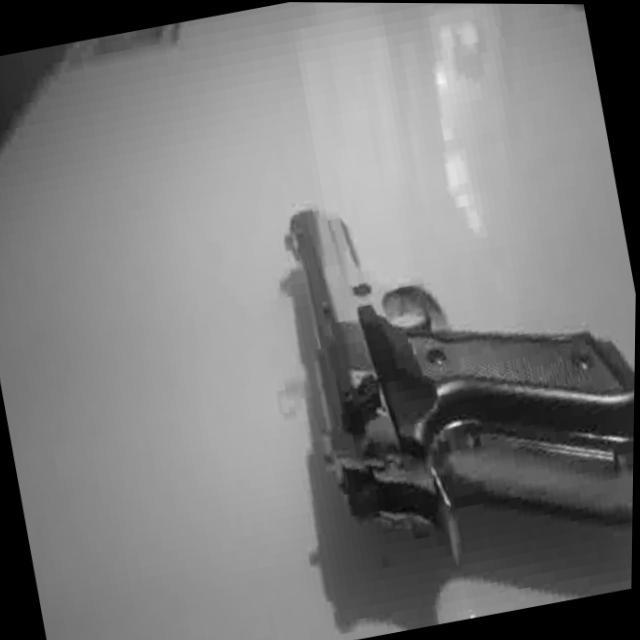weapon: (266, 142, 638, 588)
